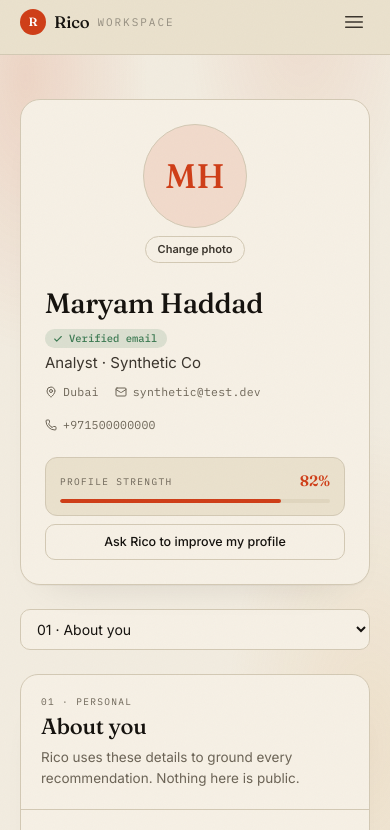
Test case: profile editorial — real-data rendering › documents section shows files from /api/v1/user/files after navigating to it
expect the heading "Maryam Haddad" is shown: met, box [45,286,263,319]
Select "04 · CV & documents" in the dropdown named "Sections" at (195, 629), box [20,609,370,650]
(page scrolled)
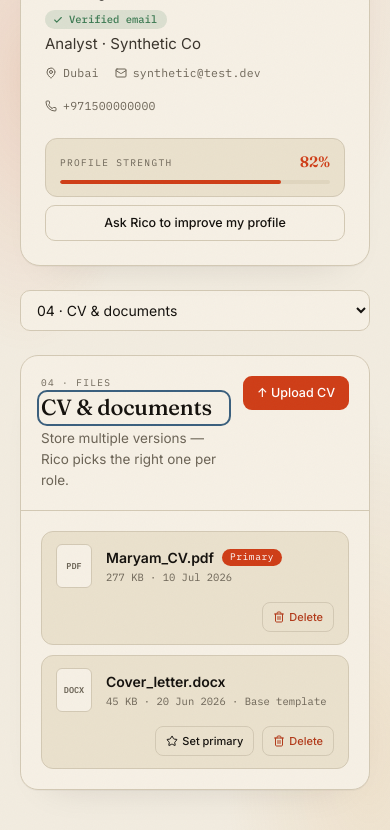
expect the text "Maryam_CV.pdf" is shown: met, box [106,548,214,568]
expect the text "Cover_letter.docx" is shown: met, box [106,672,226,692]
expect the text "Primary" is shown: met, box [222,550,282,566]
